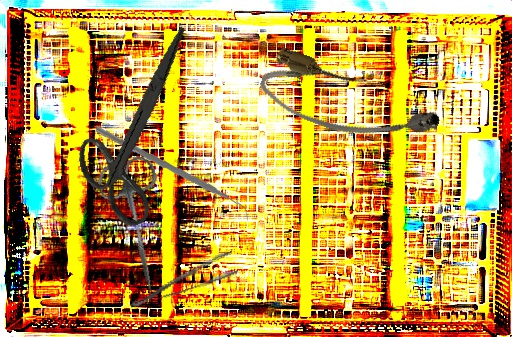Cannula: (254, 43, 445, 164)
Chopper: (95, 116, 249, 233)
Dressing Forceps: (123, 249, 240, 310)
Iris Scissors: (59, 27, 217, 233), (94, 153, 182, 299)
